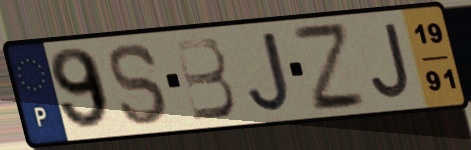9: (49, 44, 115, 134)
B: (171, 34, 239, 123)
J: (245, 28, 294, 117), (368, 19, 414, 101)
S: (107, 40, 173, 127)
Z: (288, 22, 372, 116)
